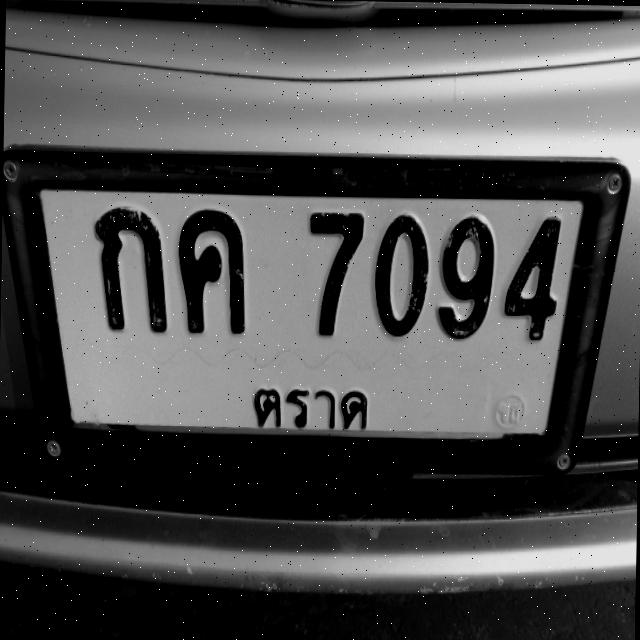0: (366, 202, 432, 338)
10GorGai: (82, 202, 172, 342)
13KhorKhwai: (169, 198, 263, 344)
4: (497, 202, 564, 342)
7: (294, 202, 368, 338)
9: (430, 202, 499, 344)
Tak: (241, 376, 380, 438)
